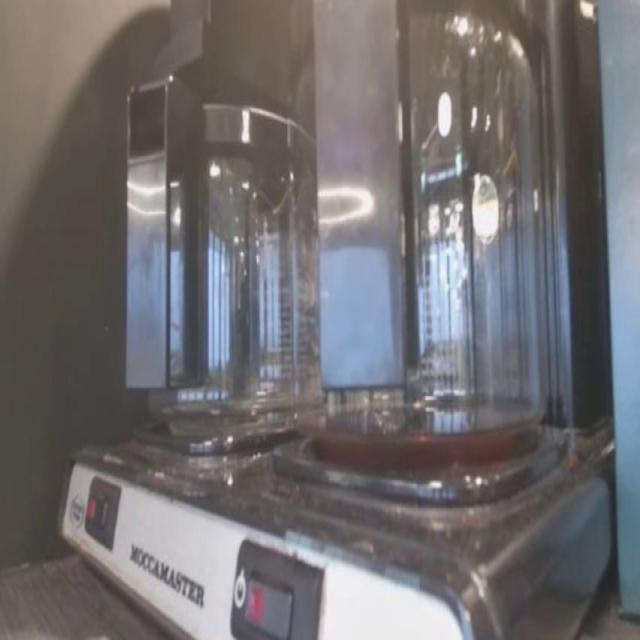nocoffee: (316, 68, 549, 529), (122, 116, 313, 462)
